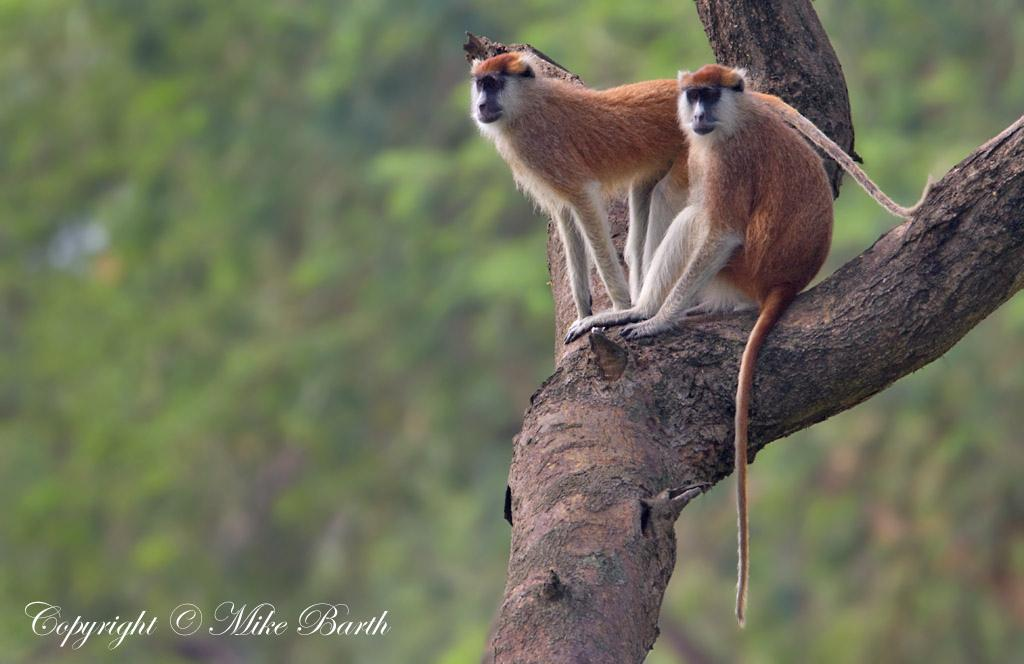monkey: (464, 36, 909, 664)
